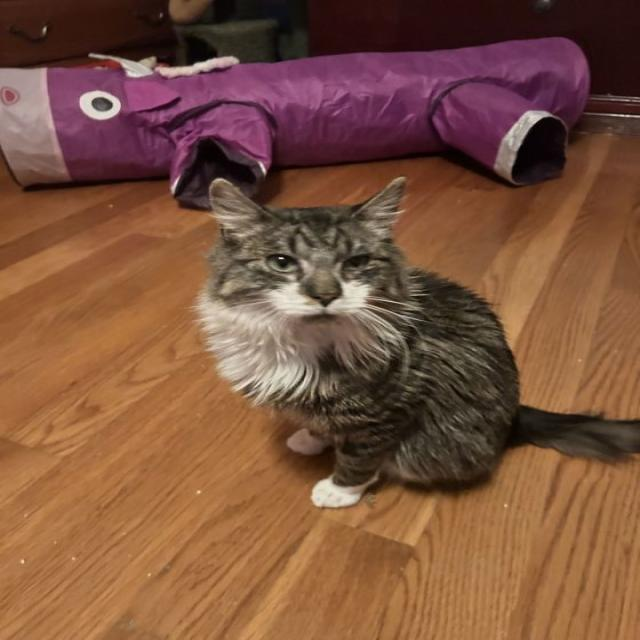maine_coon_cat: (194, 168, 434, 362)
